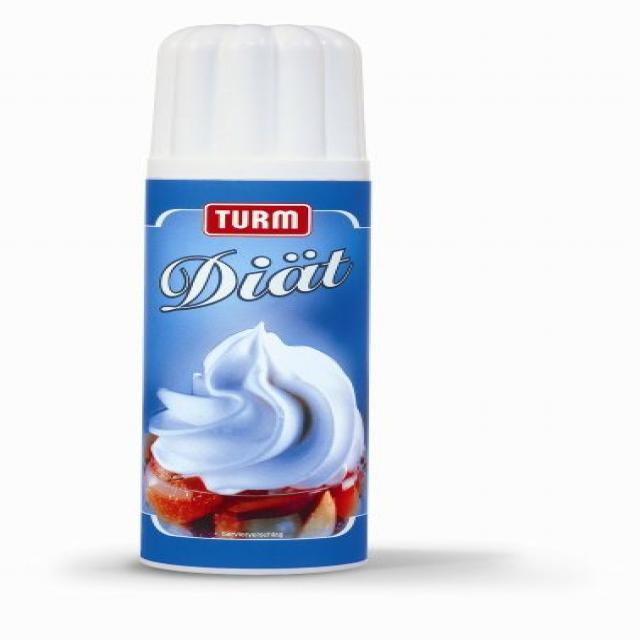Cream: (141, 26, 371, 576)
